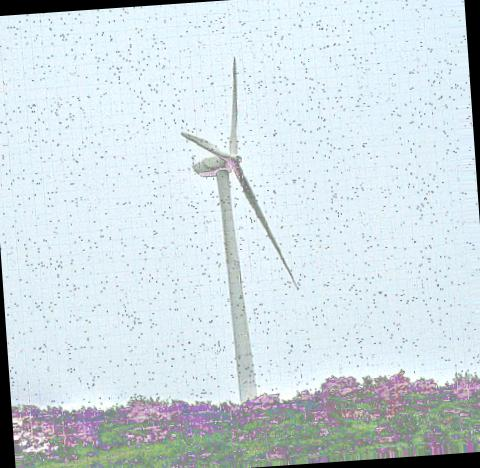wind turbine: (181, 55, 299, 409)
